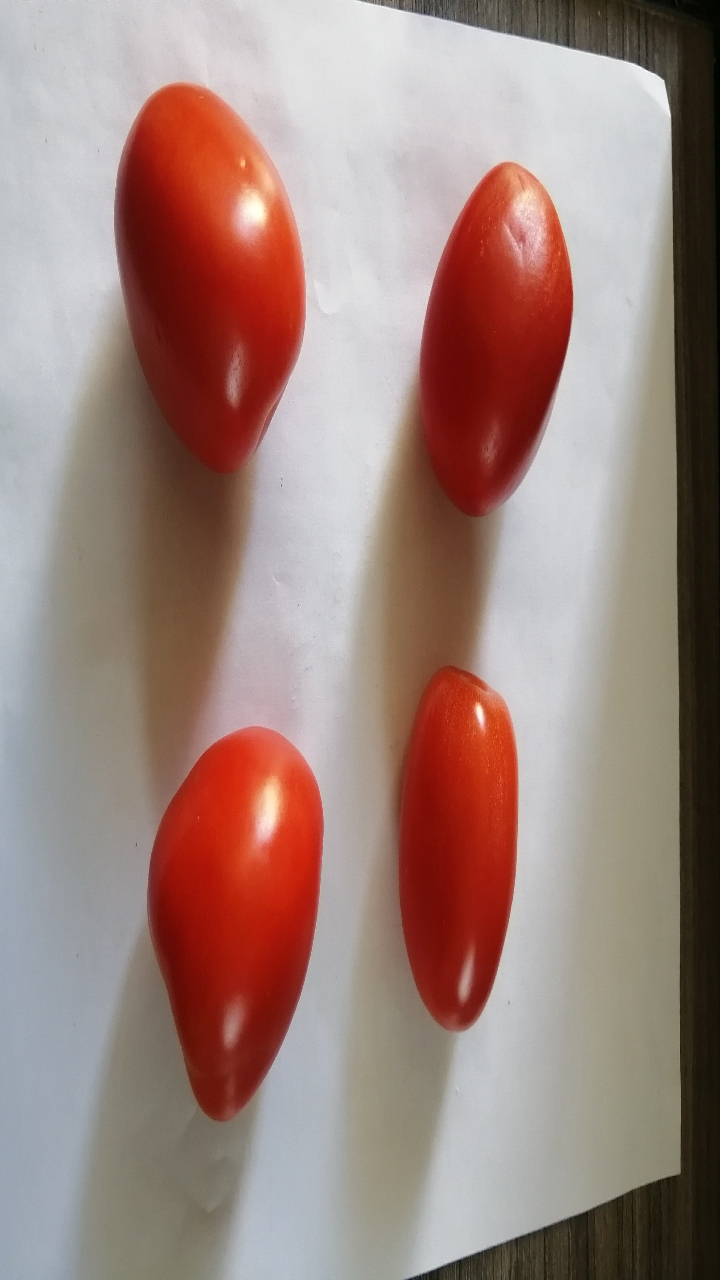tomateRojo: (117, 706, 343, 1134), (86, 65, 312, 485), (400, 131, 581, 545), (371, 645, 554, 1043)
